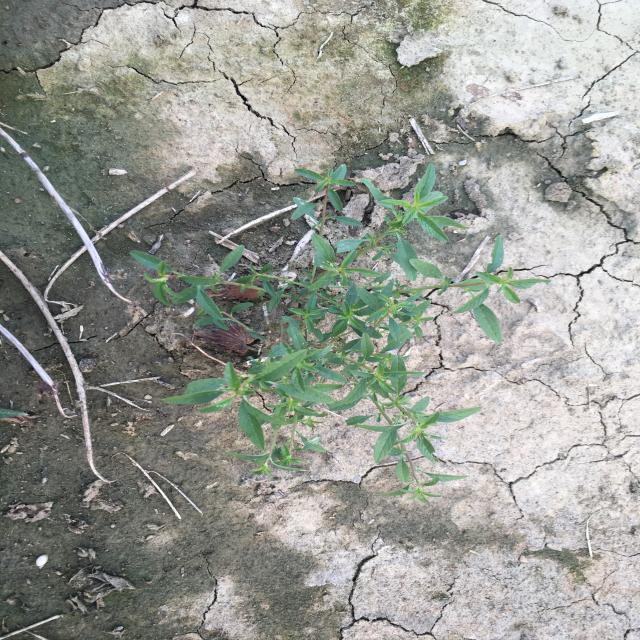Waterhemp: (125, 160, 556, 510)
